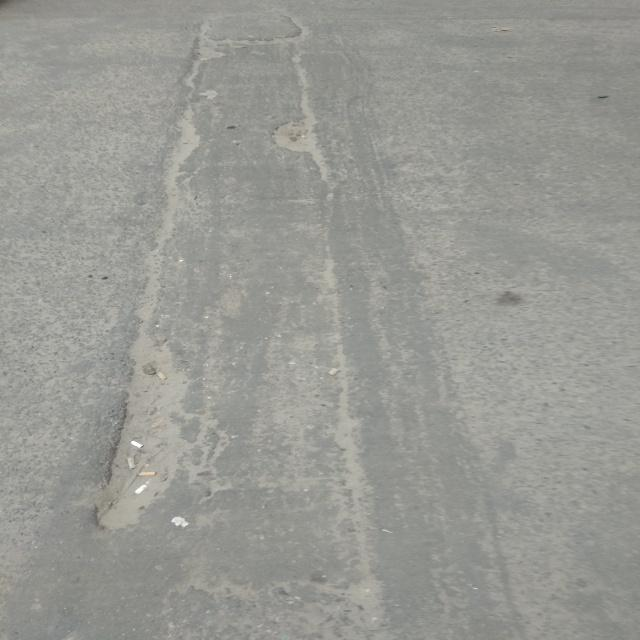Surface Erosion: (89, 1, 387, 596)
